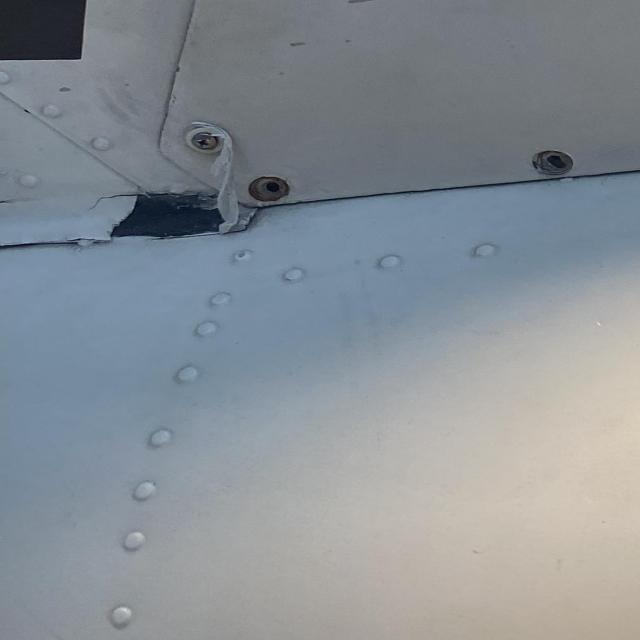Missing-head: (243, 178, 288, 207), (530, 152, 572, 180)
Paint-off: (283, 35, 303, 51), (344, 0, 389, 6)
